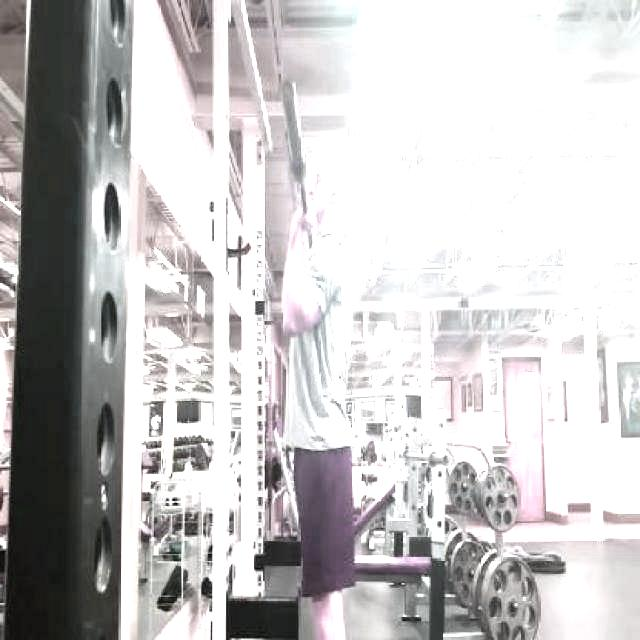barbell: (277, 75, 313, 187)
